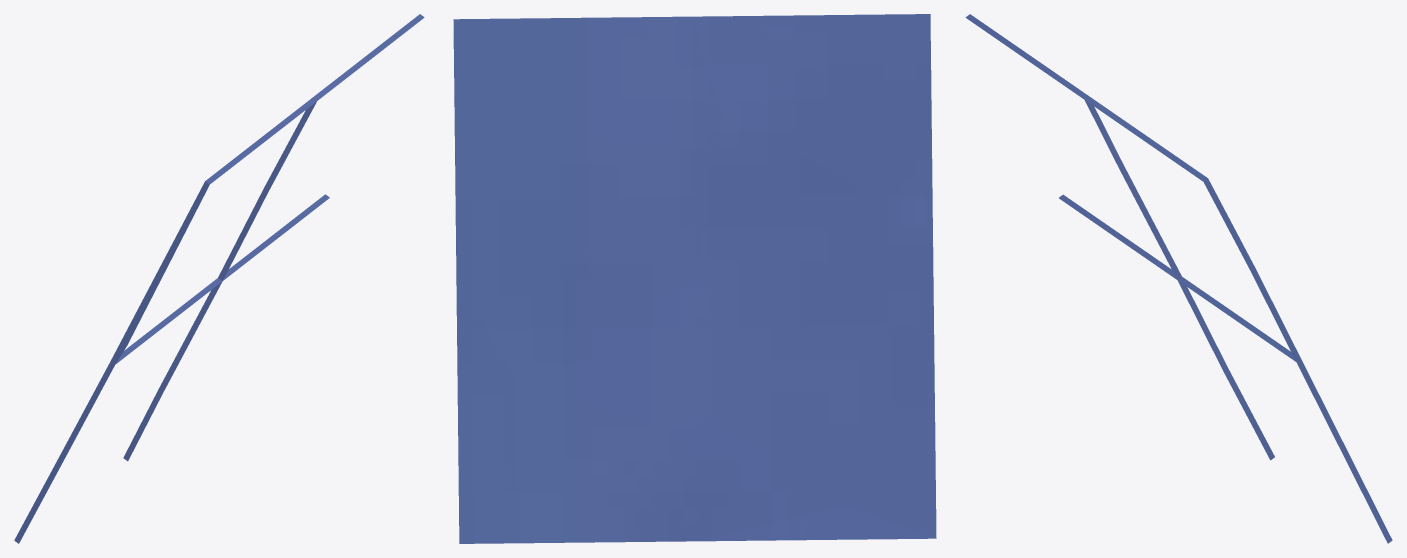
3 renders of one model, left to right at view 1: azimuth 30°, elevation 25°; view 2: azimuth 150°, elevation 25°; view 3: azimuth 270°, elevation 25°, orthographic. The views are drawn at different scales.
Size of the model in its own units: 4926 by 4424 by 4156.
1 material, 1 textured.
